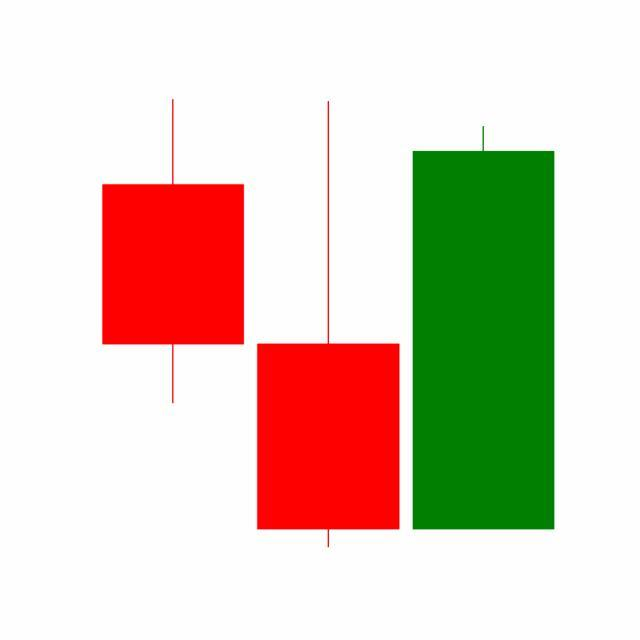Marubozu: (406, 122, 562, 533)
